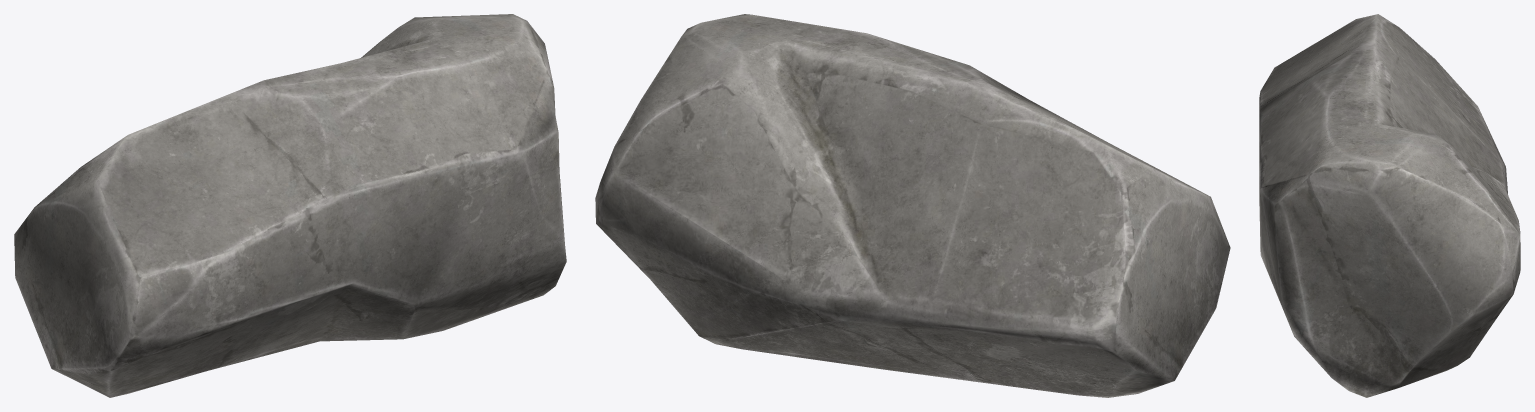
File: Medium_09.glb
3 renders of one model, left to right at view 1: azimuth 30°, elevation 25°; view 2: azimuth 150°, elevation 25°; view 3: azimuth 270°, elevation 25°, orthographic. The views are drawn at different scales.
Visible parts, largest first — view 1: Medium_09_LOD1; view 2: Medium_09_LOD1; view 3: Medium_09_LOD1.
Boxes of the visible parts, box(x1,y1,x2,y2) form: Medium_09_LOD1: box(14, 14, 566, 397); Medium_09_LOD1: box(595, 14, 1230, 397); Medium_09_LOD1: box(1259, 14, 1520, 397).
Bounding box in the file's own units: 7.76 × 4.03 × 4.
Materials: 1 (1 with a texture image).
